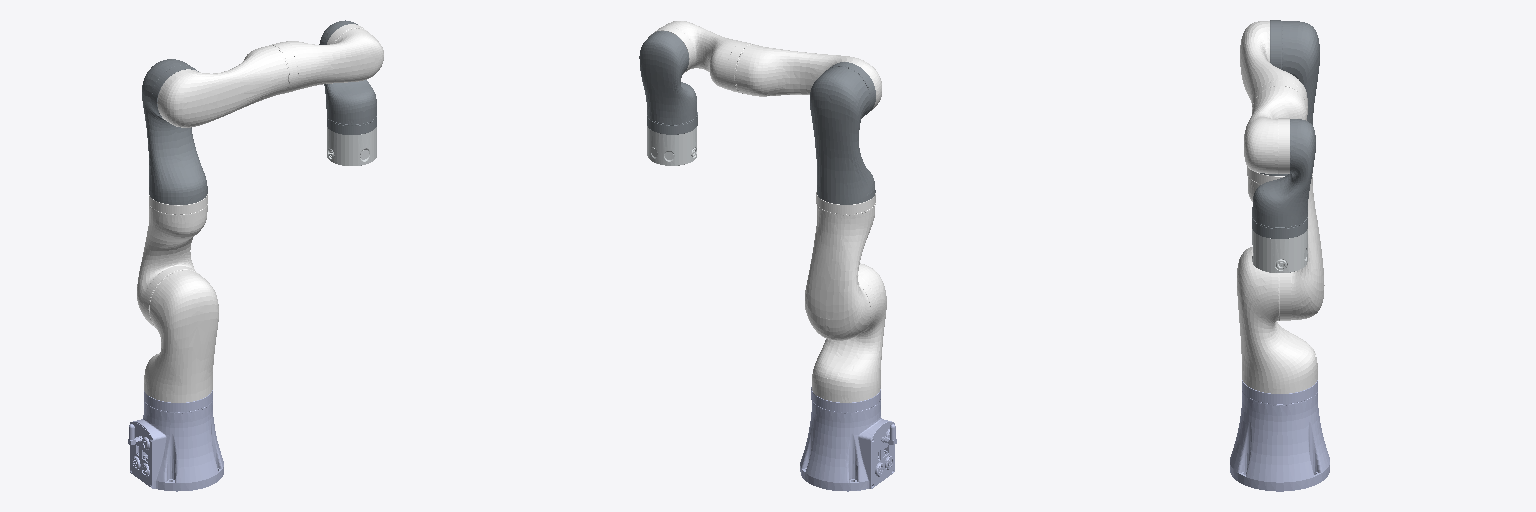
URDF robot description (TCB710_06N_urdf):
<?xml version="1.0" encoding="utf-8"?>
<!-- This URDF was automatically created by SolidWorks to URDF Exporter! Originally created by Stephen Brawner (brawner@gmail.com) 
     Commit Version: 1.6.0-1-g15f4949  Build Version: 1.6.7594.29634
     For more information, please see http://wiki.ros.org/sw_urdf_exporter -->
<robot
  name="TCB710_06N_urdf">
<mujoco>
    <compiler meshdir="../meshes/" discardvisual="false"/>
  </mujoco>
  <link
    name="tl_robot_link0">
    <inertial>
      <origin
        xyz="0.00019716 -5.6594E-05 0.037668"
        rpy="0 0 0" />
      <mass
        value="0.7499" />
      <inertia
        ixx="0.0015624"
        ixy="-6.4826E-08"
        ixz="4.2171E-05"
        iyy="0.0014306"
        iyz="-1.474E-07"
        izz="0.0018195" />
    </inertial>
    <visual>
      <origin
        xyz="0 0 0"
        rpy="0 0 0" />
      <geometry>
        <mesh
          filename="package://TCB710_06N_urdf/meshes/tl_robot_link0.STL" />
      </geometry>
      <material
        name="">
        <color
          rgba="0.79216 0.81961 0.93333 1" />
      </material>
    </visual>
    <collision>
      <origin
        xyz="0 0 0"
        rpy="0 0 0" />
      <geometry>
        <mesh
          filename="package://TCB710_06N_urdf/meshes/tl_robot_link0.STL" />
      </geometry>
    </collision>
  </link>
  <link
    name="tl_robot_link1">
    <inertial>
      <origin
        xyz="-3.2217E-06 -0.015124 0.070502"
        rpy="0 0 0" />
      <mass
        value="0.51848" />
      <inertia
        ixx="0.0016711"
        ixy="1.5621E-07"
        ixz="-1.5467E-07"
        iyy="0.001757"
        iyz="0.00026361"
        izz="0.00078448" />
    </inertial>
    <visual>
      <origin
        xyz="0 0 0"
        rpy="0 0 0" />
      <geometry>
        <mesh
          filename="package://TCB710_06N_urdf/meshes/tl_robot_link1.STL" />
      </geometry>
      <material
        name="">
        <color
          rgba="1 1 1 1" />
      </material>
    </visual>
    <collision>
      <origin
        xyz="0 0 0"
        rpy="0 0 0" />
      <geometry>
        <mesh
          filename="package://TCB710_06N_urdf/meshes/tl_robot_link1.STL" />
      </geometry>
    </collision>
  </link>
  <joint
    name="tl_robot_joint1"
    type="revolute">
    <origin
      xyz="0 0 0.1305"
      rpy="0 0 0" />
    <parent
      link="tl_robot_link0" />
    <child
      link="tl_robot_link1" />
    <axis
      xyz="0 0 1" />
    <limit
      lower="-3.141592654"
      upper="3.141592654"
      effort="0"
      velocity="0" />
  </joint>
  <link
    name="tl_robot_link2">
    <inertial>
      <origin
        xyz="-1.2697E-05 -0.066422 0.0045783"
        rpy="0 0 0" />
      <mass
        value="0.45884" />
      <inertia
        ixx="0.0016432"
        ixy="-2.7265E-07"
        ixz="-7.6925E-08"
        iyy="0.00055884"
        iyz="-0.00028299"
        izz="0.0017123" />
    </inertial>
    <visual>
      <origin
        xyz="0 0 0"
        rpy="0 0 0" />
      <geometry>
        <mesh
          filename="package://TCB710_06N_urdf/meshes/tl_robot_link2.STL" />
      </geometry>
      <material
        name="">
        <color
          rgba="1 1 1 1" />
      </material>
    </visual>
    <collision>
      <origin
        xyz="0 0 0"
        rpy="0 0 0" />
      <geometry>
        <mesh
          filename="package://TCB710_06N_urdf/meshes/tl_robot_link2.STL" />
      </geometry>
    </collision>
  </link>
  <joint
    name="tl_robot_joint2"
    type="revolute">
    <origin
      xyz="0 0.016 0.1315"
      rpy="-1.5708 0 0" />
    <parent
      link="tl_robot_link1" />
    <child
      link="tl_robot_link2" />
    <axis
      xyz="0 0 1" />
    <limit
      lower="-2.35619449"
      upper="2.35619449"
      effort="0"
      velocity="0" />
  </joint>
  <link
    name="tl_robot_link3">
    <inertial>
      <origin
        xyz="5.3045E-06 0.016606 0.08269"
        rpy="0 0 0" />
      <mass
        value="0.46363" />
      <inertia
        ixx="0.0016235"
        ixy="-7.0673E-08"
        ixz="-2.6457E-07"
        iyy="0.0016823"
        iyz="-0.0002385"
        izz="0.00046382" />
    </inertial>
    <visual>
      <origin
        xyz="0 0 0"
        rpy="0 0 0" />
      <geometry>
        <mesh
          filename="package://TCB710_06N_urdf/meshes/tl_robot_link3.STL" />
      </geometry>
      <material
        name="">
        <color
          rgba="0.56863 0.59608 0.62353 1" />
      </material>
    </visual>
    <collision>
      <origin
        xyz="0 0 0"
        rpy="0 0 0" />
      <geometry>
        <mesh
          filename="package://TCB710_06N_urdf/meshes/tl_robot_link3.STL" />
      </geometry>
    </collision>
  </link>
  <joint
    name="tl_robot_joint3"
    type="revolute">
    <origin
      xyz="0 -0.1675 -0.016"
      rpy="1.5708 0 0" />
    <parent
      link="tl_robot_link2" />
    <child
      link="tl_robot_link3" />
    <axis
      xyz="0 0 1" />
    <limit
      lower="-3.141592654"
      upper="3.141592654"
      effort="0"
      velocity="0" />
  </joint>
  <link
    name="tl_robot_link4">
    <inertial>
      <origin
        xyz="2.78354237109905E-06 0.0694960867121007 0.00637377402709792"
        rpy="0 0 0" />
      <mass
        value="0.396498595803027" />
      <inertia
        ixx="0.00137497380584233"
        ixy="7.68580314688507E-08"
        ixz="2.5461038707363E-08"
        iyy="0.000357925421554553"
        iyz="0.000211759769095163"
        izz="0.00141757729346042" />
    </inertial>
    <visual>
      <origin
        xyz="0 0 0"
        rpy="0 0 0" />
      <geometry>
        <mesh
          filename="package://TCB710_06N_urdf/meshes/tl_robot_link4.STL" />
      </geometry>
      <material
        name="">
        <color
          rgba="1 1 1 1" />
      </material>
    </visual>
    <collision>
      <origin
        xyz="0 0 0"
        rpy="0 0 0" />
      <geometry>
        <mesh
          filename="package://TCB710_06N_urdf/meshes/tl_robot_link4.STL" />
      </geometry>
    </collision>
  </link>
  <joint
    name="tl_robot_joint4"
    type="revolute">
    <origin
      xyz="0 -0.0135 0.153"
      rpy="1.5708 1.5708 0" />
    <parent
      link="tl_robot_link3" />
    <child
      link="tl_robot_link4" />
    <axis
      xyz="0 0 -1" />
    <limit
      lower="-4.101523742"
      upper="0.959931089"
      effort="0"
      velocity="0" />
  </joint>
  <link
    name="tl_robot_link5">
    <inertial>
      <origin
        xyz="-3.4093E-06 -0.013324 0.058713"
        rpy="0 0 0" />
      <mass
        value="0.24429" />
      <inertia
        ixx="0.00050736"
        ixy="-3.1473E-09"
        ixz="-1.1005E-07"
        iyy="0.00052202"
        iyz="8.9413E-05"
        izz="0.00020297" />
    </inertial>
    <visual>
      <origin
        xyz="0 0 0"
        rpy="0 0 0" />
      <geometry>
        <mesh
          filename="package://TCB710_06N_urdf/meshes/tl_robot_link5.STL" />
      </geometry>
      <material
        name="">
        <color
          rgba="1 1 1 1" />
      </material>
    </visual>
    <collision>
      <origin
        xyz="0 0 0"
        rpy="0 0 0" />
      <geometry>
        <mesh
          filename="package://TCB710_06N_urdf/meshes/tl_robot_link5.STL" />
      </geometry>
    </collision>
  </link>
  <joint
    name="tl_robot_joint5"
    type="revolute">
    <origin
      xyz="0 0.1745 -0.0135"
      rpy="-1.5708 0 0" />
    <parent
      link="tl_robot_link4" />
    <child
      link="tl_robot_link5" />
    <axis
      xyz="0 0 1" />
    <limit
      lower="-3.141592654"
      upper="3.141592654"
      effort="0"
      velocity="0" />
  </joint>
  <link
    name="tl_robot_link6">
    <inertial>
      <origin
        xyz="-1.4032E-05 -0.043424 0.0005268"
        rpy="0 0 0" />
      <mass
        value="0.24867" />
      <inertia
        ixx="0.00043537"
        ixy="1.0258E-07"
        ixz="3.8396E-08"
        iyy="0.00022331"
        iyz="-9.1514E-05"
        izz="0.00044049" />
    </inertial>
    <visual>
      <origin
        xyz="0 0 0"
        rpy="0 0 0" />
      <geometry>
        <mesh
          filename="package://TCB710_06N_urdf/meshes/tl_robot_link6.STL" />
      </geometry>
      <material
        name="">
        <color
          rgba="0.56863 0.59608 0.62353 1" />
      </material>
    </visual>
    <collision>
      <origin
        xyz="0 0 0"
        rpy="0 0 0" />
      <geometry>
        <mesh
          filename="package://TCB710_06N_urdf/meshes/tl_robot_link6.STL" />
      </geometry>
    </collision>
  </link>
  <joint
    name="tl_robot_joint6"
    type="revolute">
    <origin
      xyz="0 0.0145 0.105"
      rpy="-1.5708 1.5708 0" />
    <parent
      link="tl_robot_link5" />
    <child
      link="tl_robot_link6" />
    <axis
      xyz="0 0 1" />
    <limit
      lower="-3.752457892"
      upper="0.610865238"
      effort="0"
      velocity="0" />
  </joint>
  <link
    name="tl_robot_link7">
    <inertial>
      <origin
        xyz="8.1873E-06 9.1246E-05 0.026769"
        rpy="0 0 0" />
      <mass
        value="0.22249" />
      <inertia
        ixx="0.00013531"
        ixy="-5.825E-08"
        ixz="-1.8884E-09"
        iyy="0.00013446"
        iyz="-1.2392E-08"
        izz="0.00018105" />
    </inertial>
    <visual>
      <origin
        xyz="0 0 0"
        rpy="0 0 0" />
      <geometry>
        <mesh
          filename="package://TCB710_06N_urdf/meshes/tl_robot_link7.STL" />
      </geometry>
      <material
        name="">
        <color
          rgba="0.89804 0.91765 0.92941 1" />
      </material>
    </visual>
    <collision>
      <origin
        xyz="0 0 0"
        rpy="0 0 0" />
      <geometry>
        <mesh
          filename="package://TCB710_06N_urdf/meshes/tl_robot_link7.STL" />
      </geometry>
    </collision>
  </link>
  <joint
    name="tl_robot_joint7"
    type="revolute">
    <origin
      xyz="0 -0.1145 -0.0145"
      rpy="1.5708 0 0" />
    <parent
      link="tl_robot_link6" />
    <child
      link="tl_robot_link7" />
    <axis
      xyz="0 0 1" />
    <limit
      lower="-3.141592654"
      upper="3.141592654"
      effort="0"
      velocity="0" />
  </joint>
  
  <!-- 修正末端180度偏差的虚拟关节和连杆 -->
  <joint
      name="tl_robot_joint_end"
      type="fixed">
      <origin
          xyz="0 0 0"
          rpy="0 0 -3.141592654" />  <!-- 绕Z轴旋转180度修正 -->
      <parent
          link="tl_robot_link7" />
      <child
          link="tl_robot_link_end" />
      <axis
          xyz="0 0 1" />
  </joint>

  <link
      name="tl_robot_link_end">
      <inertial>
          <origin
              xyz="0 0 0"
              rpy="0 0 0" />
          <mass
              value="0.001" />
          <inertia
              ixx="1e-6"
              ixy="0"
              ixz="0"
              iyy="1e-6"
              iyz="0"
              izz="1e-6" />
      </inertial>
      <visual>
          <origin
              xyz="0 0 0"
              rpy="0 0 0" />
          <geometry>
              <box size="0.01 0.01 0.01" />  <!-- 小方块用于可视化 -->
          </geometry>
          <material
              name="eef_color">
              <color
                  rgba="1 0 0 0.5" />  <!-- 红色半透明 -->
          </material>
      </visual>
      <collision>
          <origin
              xyz="0 0 0"
              rpy="0 0 0" />
          <geometry>
              <box size="0.001 0.001 0.001" />  <!-- 很小的碰撞体 -->
          </geometry>
      </collision>
  </link>

</robot>

--- Facts derived from the render (not from the file) ---
The picture shows the robot from 3 angles, left to right: view 1: azimuth 30°, elevation 25°; view 2: azimuth 150°, elevation 25°; view 3: azimuth 270°, elevation 25°; orthographic projection.
Model TCB710_06N_urdf with 9 links and 8 joints (7 revolute, 1 fixed), rooted at tl_robot_link0, posed all joints at 0.
Links seen in each view (by area): view 1: tl_robot_link1, tl_robot_link0, tl_robot_link4, tl_robot_link3, tl_robot_link5, tl_robot_link2, tl_robot_link6, tl_robot_link7; view 2: tl_robot_link2, tl_robot_link0, tl_robot_link3, tl_robot_link1, tl_robot_link4, tl_robot_link6, tl_robot_link5, tl_robot_link7; view 3: tl_robot_link0, tl_robot_link1, tl_robot_link6, tl_robot_link5, tl_robot_link3, tl_robot_link2, tl_robot_link4, tl_robot_link7.
Boxes of the visible links, x1,y1,x2,y2 form: tl_robot_link1: (143, 266, 218, 402); tl_robot_link0: (128, 390, 223, 491); tl_robot_link4: (157, 42, 298, 127); tl_robot_link3: (142, 59, 207, 204); tl_robot_link5: (282, 24, 383, 90); tl_robot_link2: (137, 194, 207, 320); tl_robot_link6: (319, 20, 376, 134); tl_robot_link7: (327, 127, 376, 165); tl_robot_link2: (805, 192, 875, 340); tl_robot_link0: (800, 387, 896, 491); tl_robot_link3: (810, 62, 875, 204); tl_robot_link1: (812, 263, 886, 402); tl_robot_link4: (726, 42, 881, 110); tl_robot_link6: (639, 31, 697, 134); tl_robot_link5: (650, 21, 741, 89); tl_robot_link7: (647, 126, 696, 165); tl_robot_link0: (1230, 380, 1329, 491); tl_robot_link1: (1237, 247, 1317, 393); tl_robot_link6: (1252, 119, 1315, 238); tl_robot_link5: (1244, 86, 1307, 173); tl_robot_link3: (1260, 20, 1319, 175); tl_robot_link2: (1247, 166, 1324, 319); tl_robot_link4: (1240, 21, 1307, 108); tl_robot_link7: (1252, 229, 1307, 272).
Size in the robot's own frame: 0.394 by 0.1276 by 0.6249 metres.
Meshes: 8 distinct files referenced, 8 mesh visuals loaded (8 binary STL).
